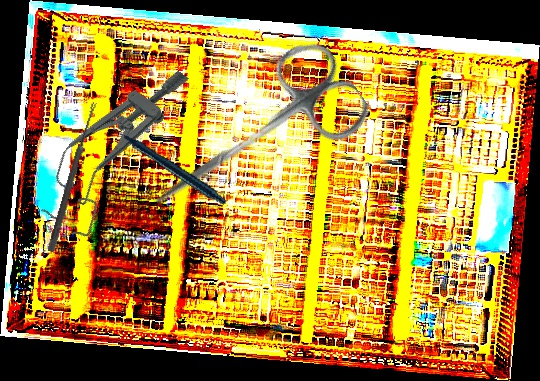Handpiece: (109, 92, 228, 232)
Iris Scissors: (128, 30, 377, 249)
Speculum: (26, 45, 201, 243)
Surgical Spoon: (47, 101, 98, 253)
